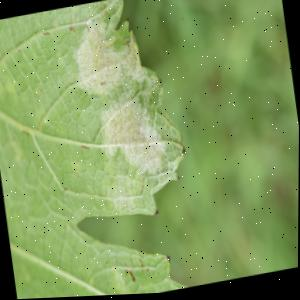Folha: (0, 0, 205, 300)
Fungo: (68, 10, 190, 196), (93, 81, 189, 187), (123, 252, 174, 286), (125, 271, 137, 286), (81, 145, 90, 153), (68, 25, 75, 35), (126, 41, 132, 50), (100, 82, 107, 89), (42, 32, 50, 38), (154, 211, 159, 218), (177, 179, 180, 183)
